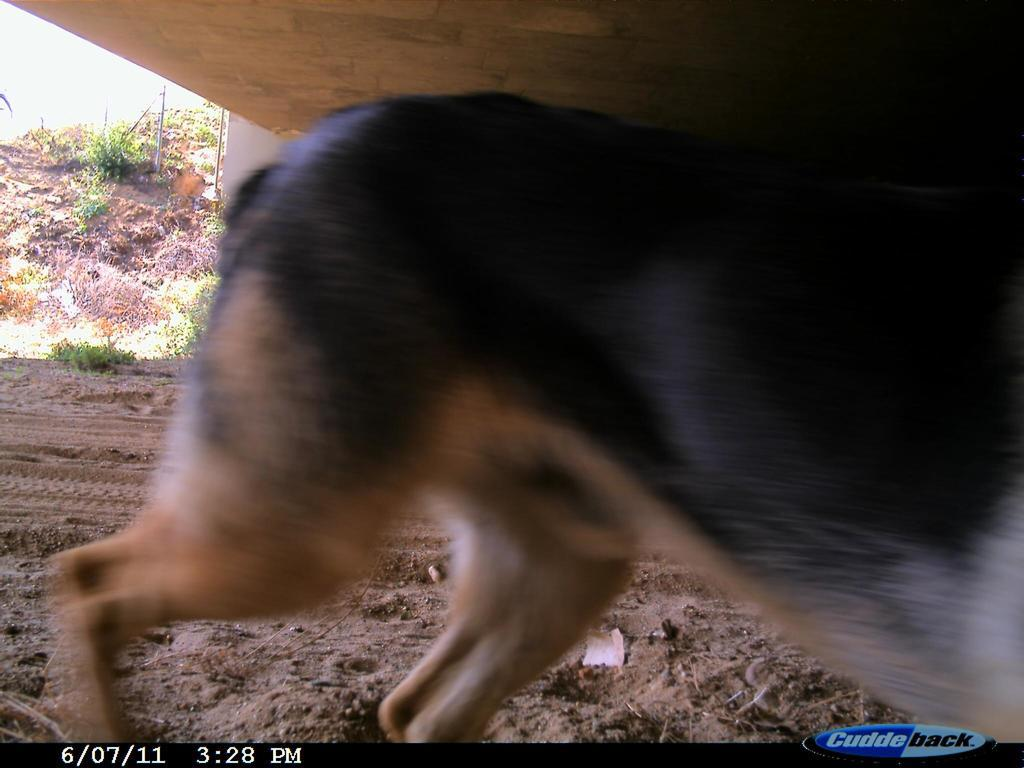dog: (49, 86, 1019, 747)
